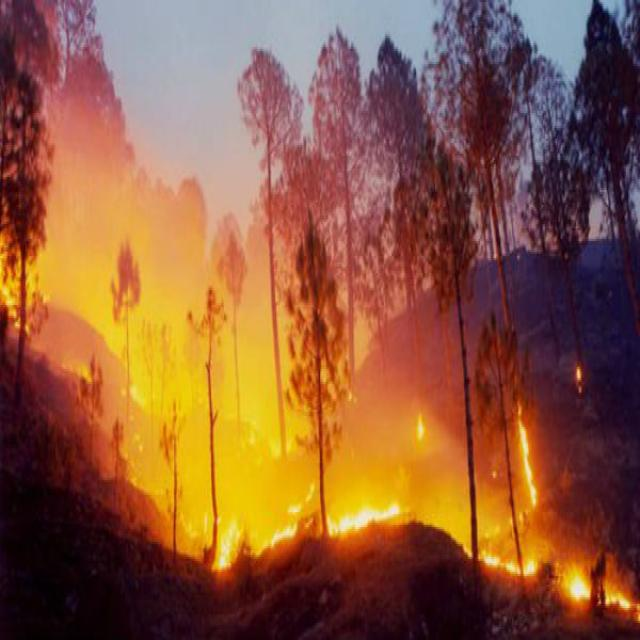Fire: (205, 484, 612, 615)
Smoke: (27, 174, 459, 473)
